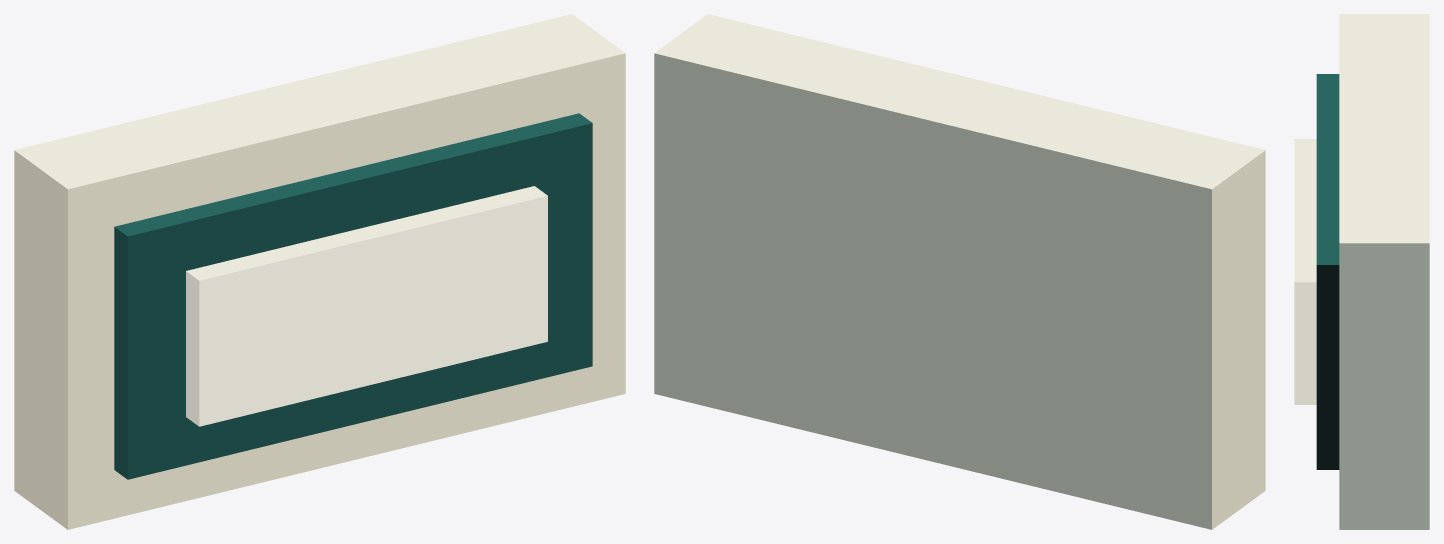
File: Signal_Lamp.gltf
3 renders of one model, left to right at view 1: azimuth 30°, elevation 25°; view 2: azimuth 150°, elevation 25°; view 3: azimuth 270°, elevation 25°, orthographic. The views are drawn at different scales.
Parts seen in each view (by area): view 1: Signal_Lamp_baked; view 2: Signal_Lamp_baked; view 3: Signal_Lamp_baked.
Part boxes in pixels (left/top/right/bottom): Signal_Lamp_baked: left=14, top=14, right=625, bottom=529; Signal_Lamp_baked: left=654, top=14, right=1265, bottom=529; Signal_Lamp_baked: left=1294, top=14, right=1429, bottom=529.
Bounding box in the file's own units: 0.48 × 0.28 × 0.12.
